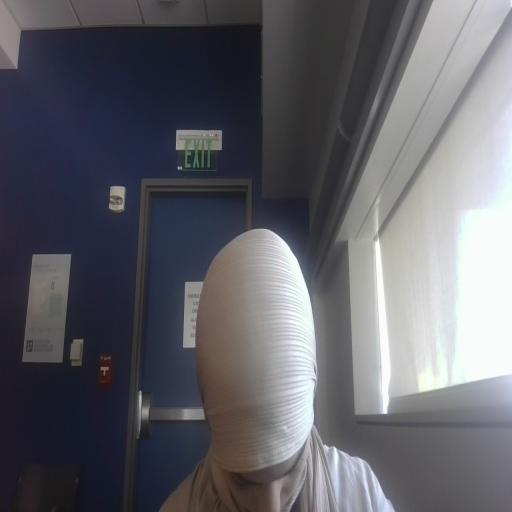lookingdownatphone: (224, 444, 306, 511)
